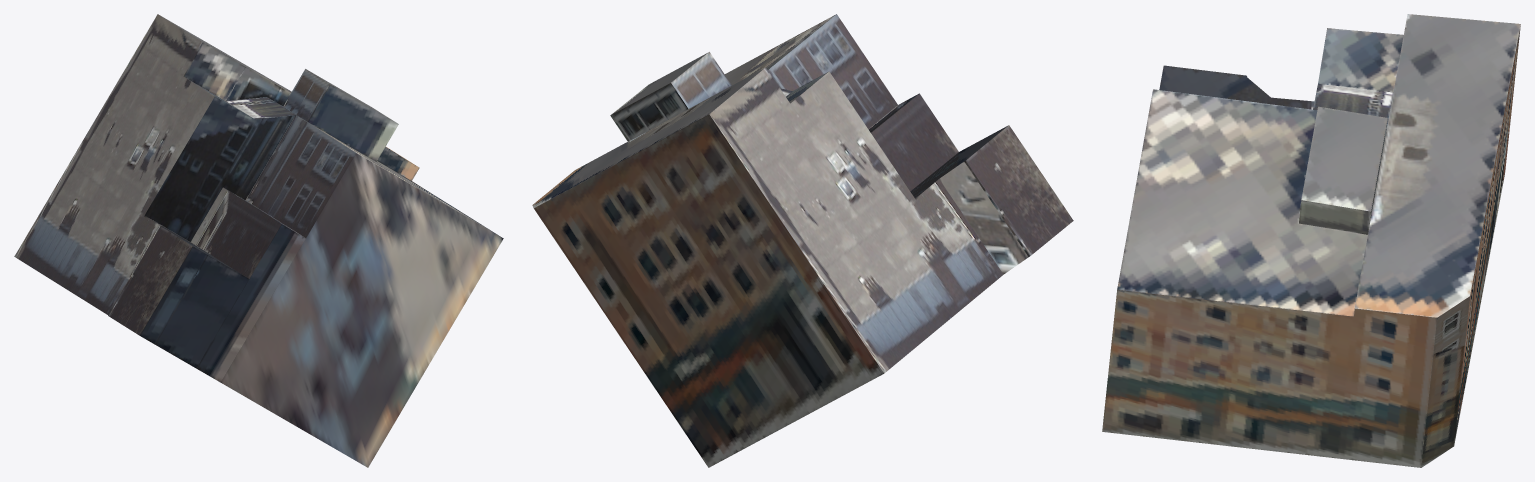
3 views of the same model, side by side, from view 1: azimuth 30°, elevation 25°; view 2: azimuth 150°, elevation 25°; view 3: azimuth 270°, elevation 25° (orthographic). The views are drawn at different scales.
Visible parts, largest first — view 1: BAG_0599100000702268 (×6); view 2: BAG_0599100000702268 (×5); view 3: BAG_0599100000702268 (×5).
Boxes of the visible parts, bbox=[...] form: BAG_0599100000702268 (×6): bbox=[14, 14, 503, 467]; BAG_0599100000702268 (×5): bbox=[532, 14, 1073, 467]; BAG_0599100000702268 (×5): bbox=[1102, 14, 1520, 467].
Size of the model in its own units: 24.47 by 23.17 by 20.58.
Materials: 1 (1 with a texture image).
